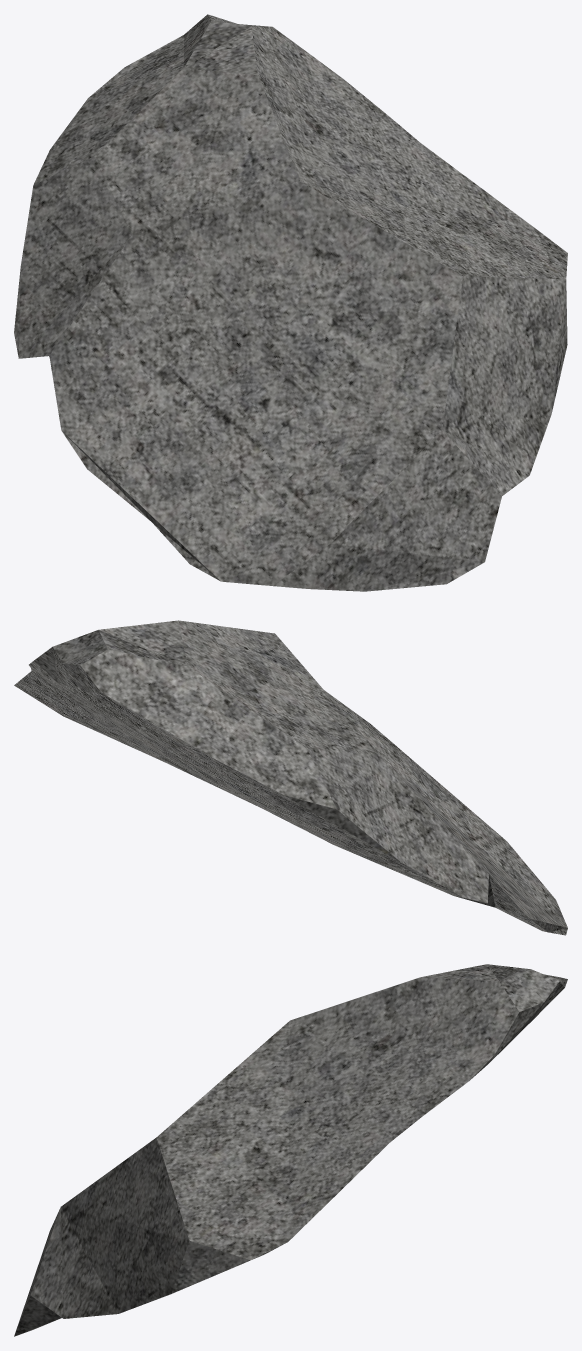
The model's file is roccia_piccola_6.fbx.
3 renders of one model, top to bottom at view 1: azimuth 30°, elevation 25°; view 2: azimuth 150°, elevation 25°; view 3: azimuth 270°, elevation 25°, orthographic. The views are drawn at different scales.
Parts seen in each view (by area): view 1: roccia_piccola_6; view 2: roccia_piccola_6; view 3: roccia_piccola_6.
Part boxes in pixels (x1,y1,x2,y2): roccia_piccola_6: (14, 14, 567, 591); roccia_piccola_6: (14, 620, 567, 935); roccia_piccola_6: (14, 964, 567, 1336).
Size of the model in its own units: 19.94 by 14.64 by 19.63.
